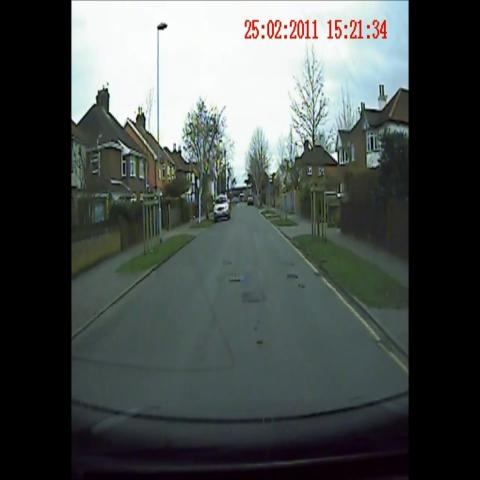pothole: (238, 280, 273, 310), (284, 260, 308, 298), (249, 327, 269, 354), (220, 251, 236, 274), (226, 272, 247, 288), (308, 266, 330, 280)
